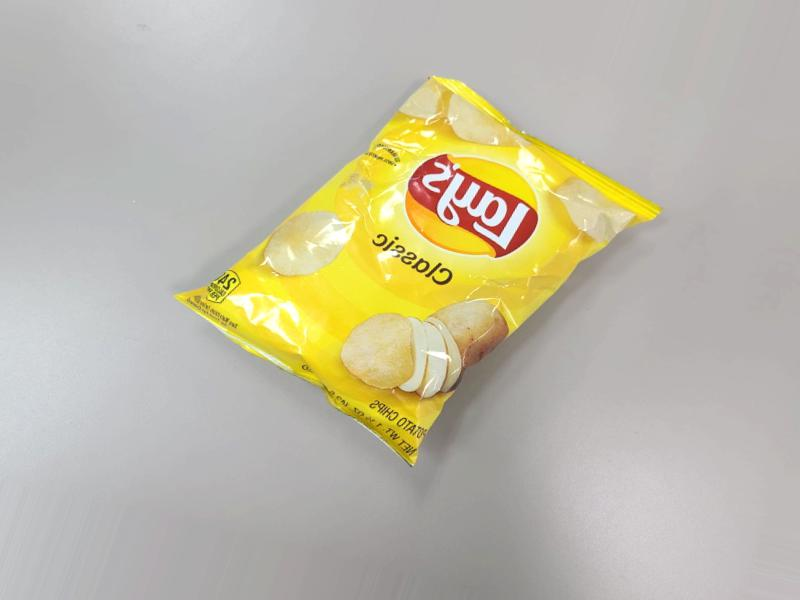lays: (207, 38, 667, 454)
